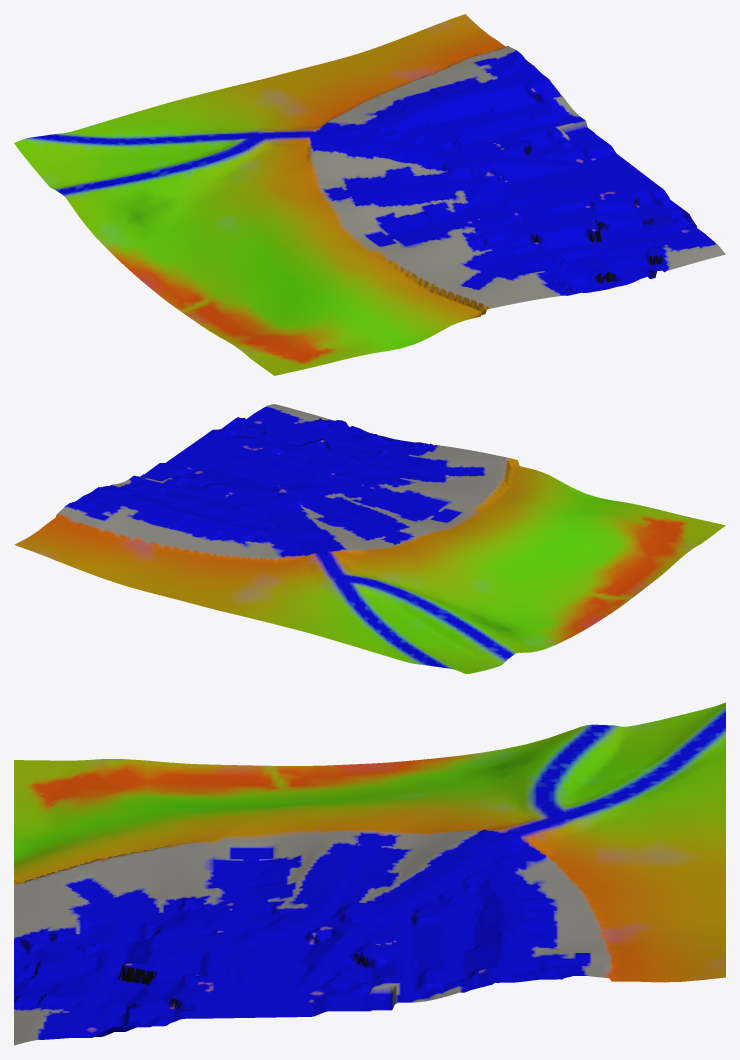
File: SM_BM_BT_Terrain_3_2.glb
3 renders of one model, top to bottom at view 1: azimuth 30°, elevation 25°; view 2: azimuth 150°, elevation 25°; view 3: azimuth 270°, elevation 25°, orthographic. The views are drawn at different scales.
Visible parts, largest first — view 1: SM_BM_BT_Terrain_3_2; view 2: SM_BM_BT_Terrain_3_2; view 3: SM_BM_BT_Terrain_3_2.
Part boxes in pixels (left/top/right/bottom): SM_BM_BT_Terrain_3_2: left=14, top=14, right=725, bottom=375; SM_BM_BT_Terrain_3_2: left=14, top=404, right=725, bottom=673; SM_BM_BT_Terrain_3_2: left=14, top=702, right=725, bottom=1045.
Bounding box in the file's own units: 256 × 36.89 × 256.
